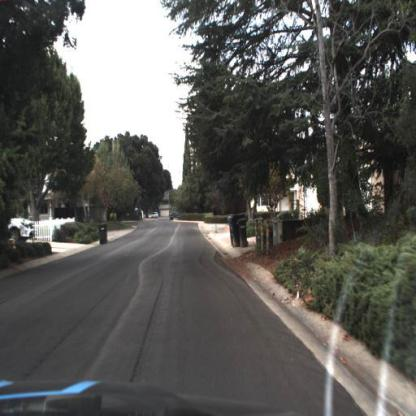car: (1, 211, 36, 246), (172, 207, 184, 221), (152, 213, 157, 219)
